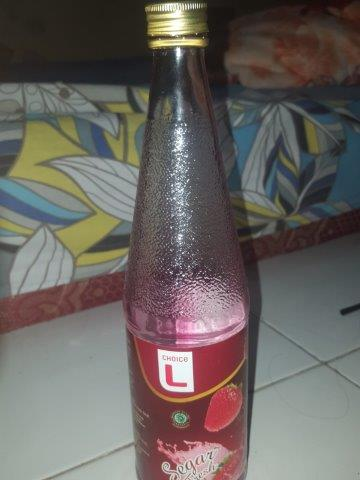botolkaca: (123, 3, 252, 480)
